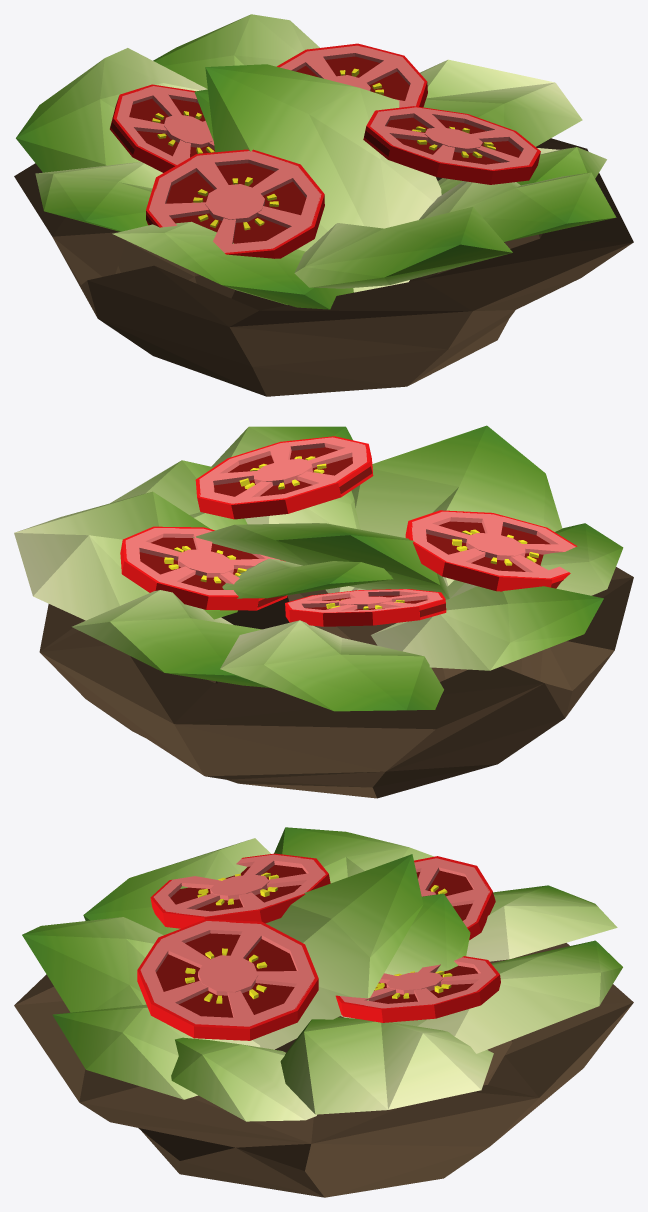
The model's file is TomatoSalad.fbx.
3 views of the same model, one above another, from view 1: azimuth 30°, elevation 25°; view 2: azimuth 150°, elevation 25°; view 3: azimuth 270°, elevation 25° (orthographic). The views are drawn at different scales.
Parts seen in each view (by area): view 1: TomatoSalad; view 2: TomatoSalad; view 3: TomatoSalad.
Boxes of the visible parts, box(x1,y1,x2,y2) form: TomatoSalad: box(14, 14, 633, 396); TomatoSalad: box(14, 425, 633, 798); TomatoSalad: box(14, 827, 633, 1197).
Bounding box in the file's own units: 21.57 × 21.59 × 8.97.
1 material, 1 textured.
